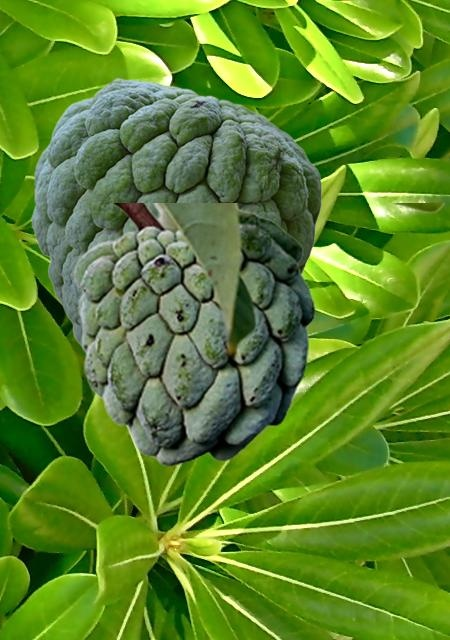atis: (72, 203, 443, 466), (31, 78, 321, 350)
